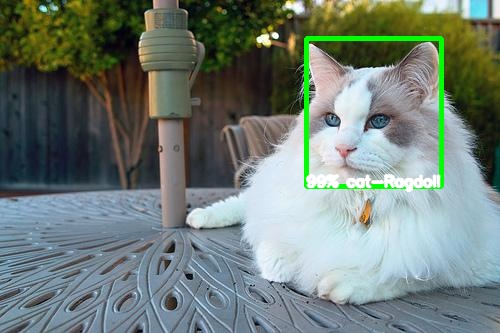cat-Ragdoll: (303, 42, 440, 183)
